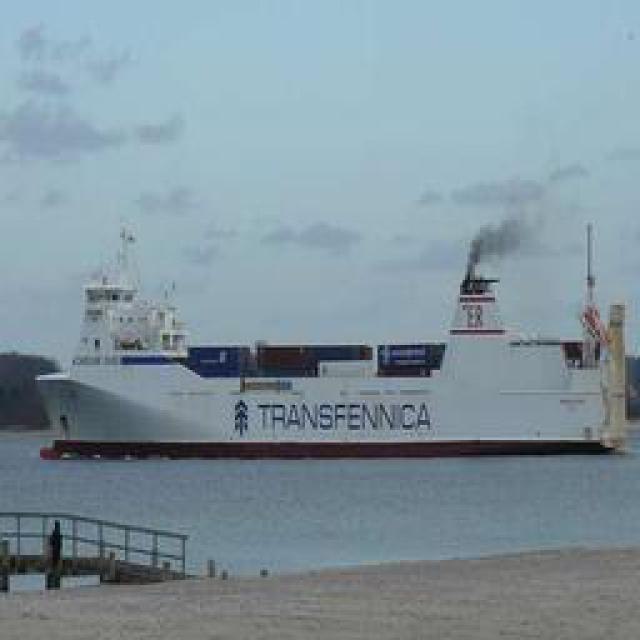Ship: (31, 218, 631, 443)
